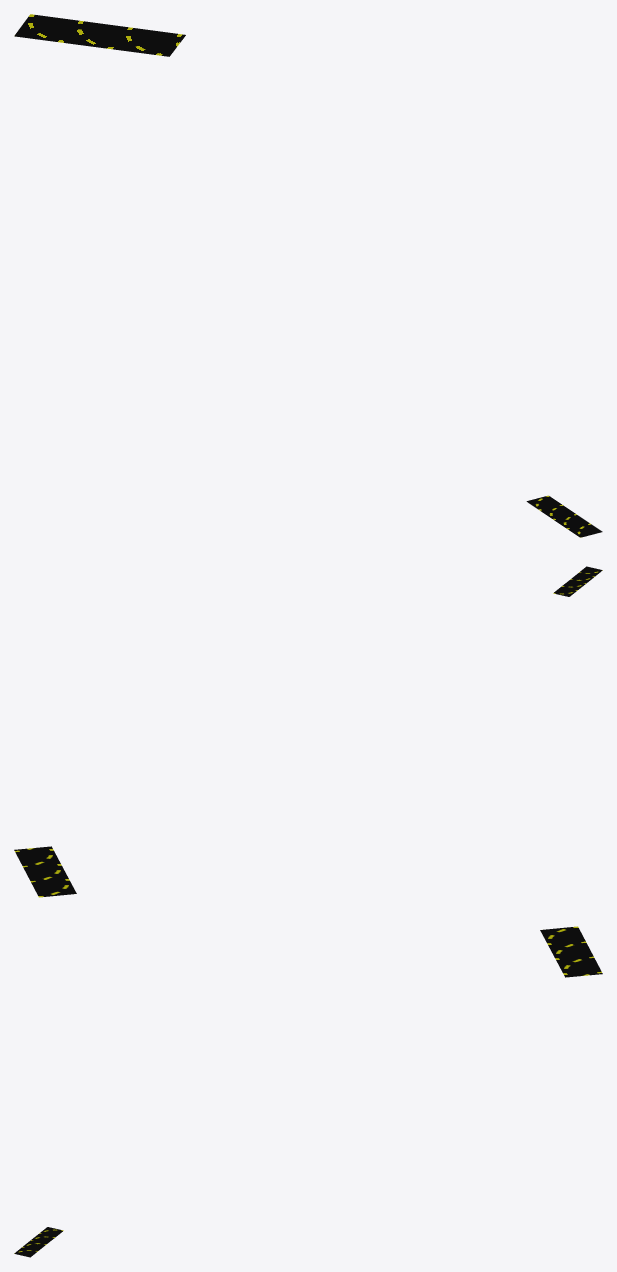
The model's file is Dam_Alpha_73.glb.
3 renders of one model, top to bottom at view 1: azimuth 30°, elevation 25°; view 2: azimuth 150°, elevation 25°; view 3: azimuth 330°, elevation 25°, orthographic. The views are drawn at different scales.
Parts seen in each view (by area): view 1: Dam_Alpha_73; view 2: Dam_Alpha_73; view 3: Dam_Alpha_73.
Boxes of the visible parts, x1,y1,x2,y2 form: Dam_Alpha_73: (14, 14, 602, 537); Dam_Alpha_73: (14, 566, 602, 897); Dam_Alpha_73: (14, 926, 602, 1257).
Bounding box in the file's own units: 41.38 × 4.8e-14 × 217.
Materials: 1 (1 with a texture image).
